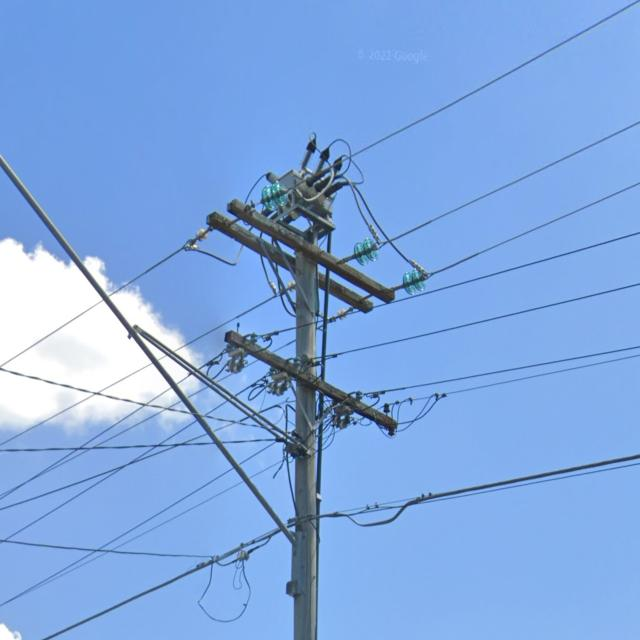HV-switch: (260, 129, 358, 242)
HV-transmission: (185, 180, 434, 324)
LV link: (247, 351, 339, 402), (205, 327, 281, 382), (331, 388, 387, 430)
crossarm: (225, 330, 398, 433), (227, 199, 395, 305), (206, 211, 374, 314)
streetlight: (0, 154, 310, 546)
timber-pole: (292, 225, 322, 640)
